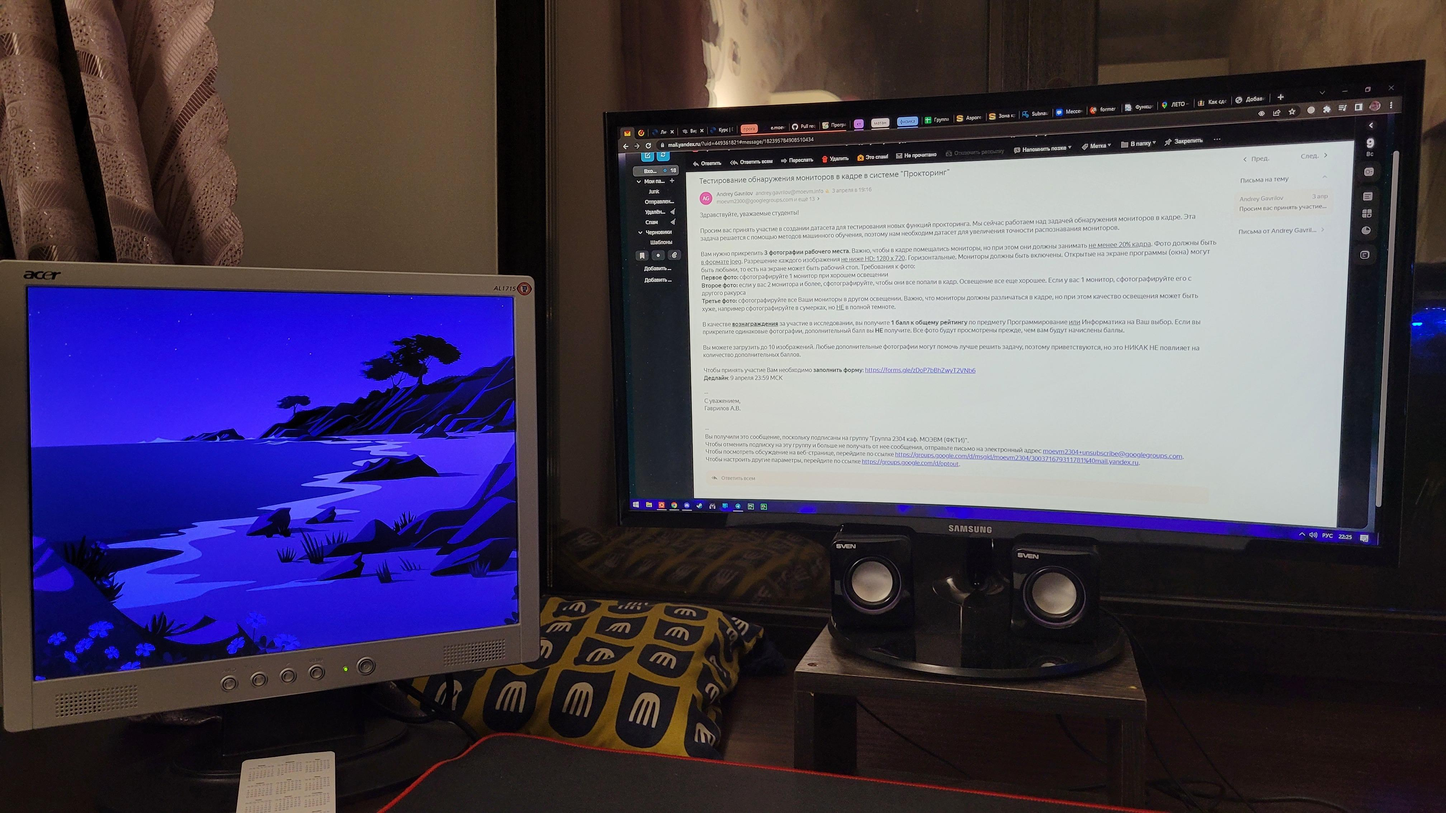monitor: (597, 54, 1433, 568), (0, 247, 554, 755)
